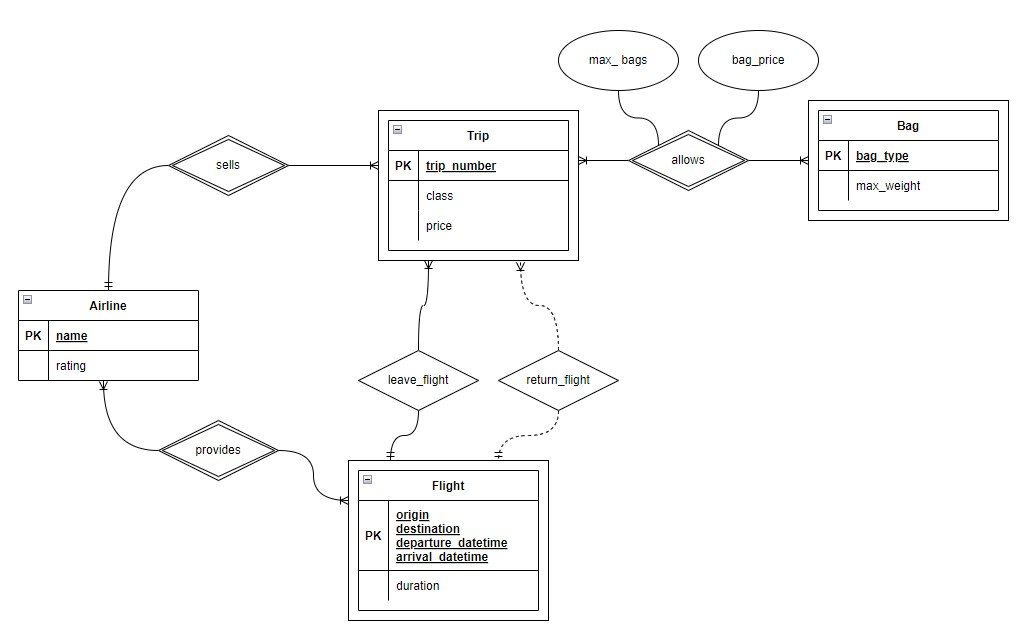entity: (18, 290, 200, 383)
ident_rel: (168, 135, 290, 196), (630, 129, 749, 191), (158, 420, 280, 480)
many: (514, 260, 529, 289), (422, 260, 435, 292), (97, 381, 110, 410), (579, 154, 608, 167), (349, 160, 380, 172), (777, 155, 808, 167), (323, 494, 350, 507)
one: (103, 267, 114, 292), (493, 441, 506, 460), (386, 440, 396, 462)
rel: (497, 350, 619, 411), (356, 351, 479, 410)
rel_attr: (558, 29, 680, 91), (699, 31, 820, 90)
weak_entity: (347, 461, 550, 622), (378, 109, 578, 259), (807, 99, 1012, 223)
